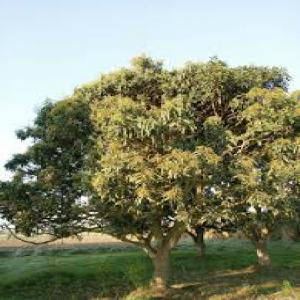Tree: (0, 54, 299, 295)
